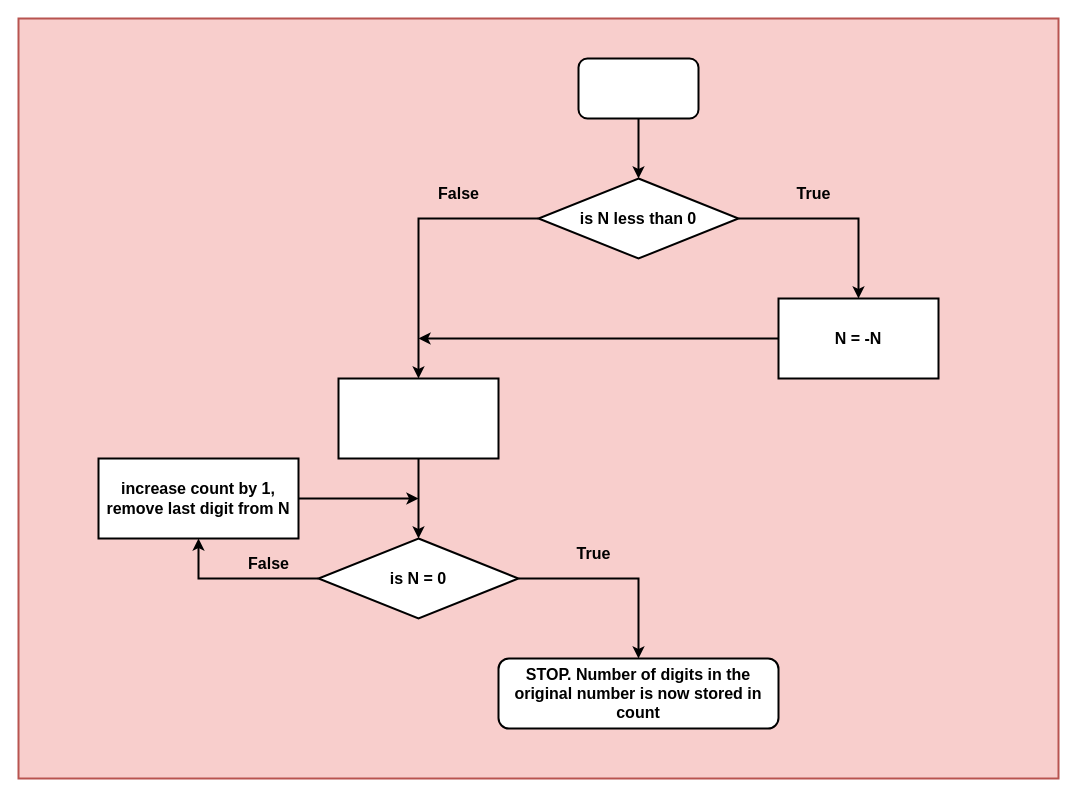
Some shapes in this 1076 by 796 pixel diagram are drawn without their labels. The shapes that lost their labels are listed below. From the top down, each one's centre as x and y in pixels, then its label:
At [638,88]: "START INPUT: N (an integer)".
At [418,418]: "count = 0".
